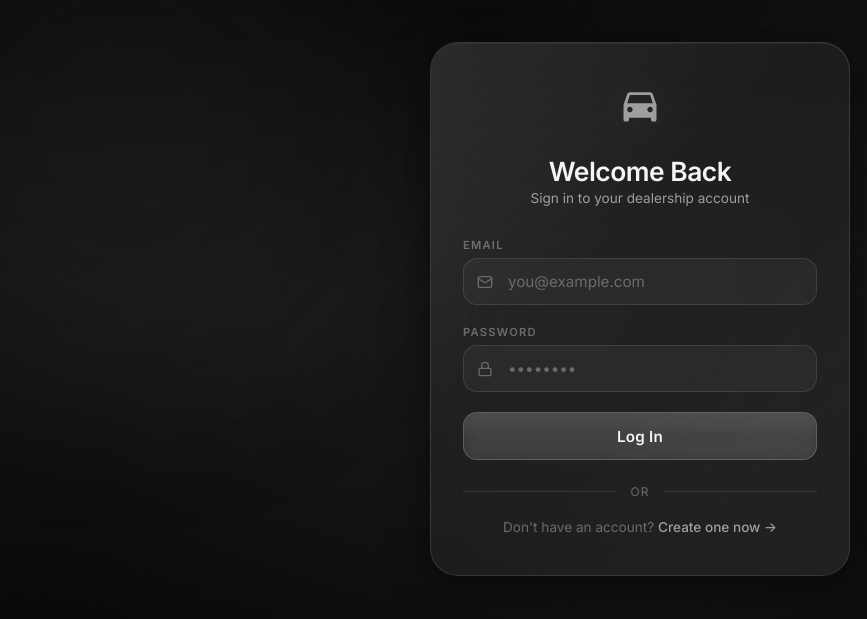
Test: LoginPage › shows an error message on invalid credentials
Step 1. Type "bad@example.com" into the field labelled "Email" → [640, 282], box [463, 258, 817, 305]
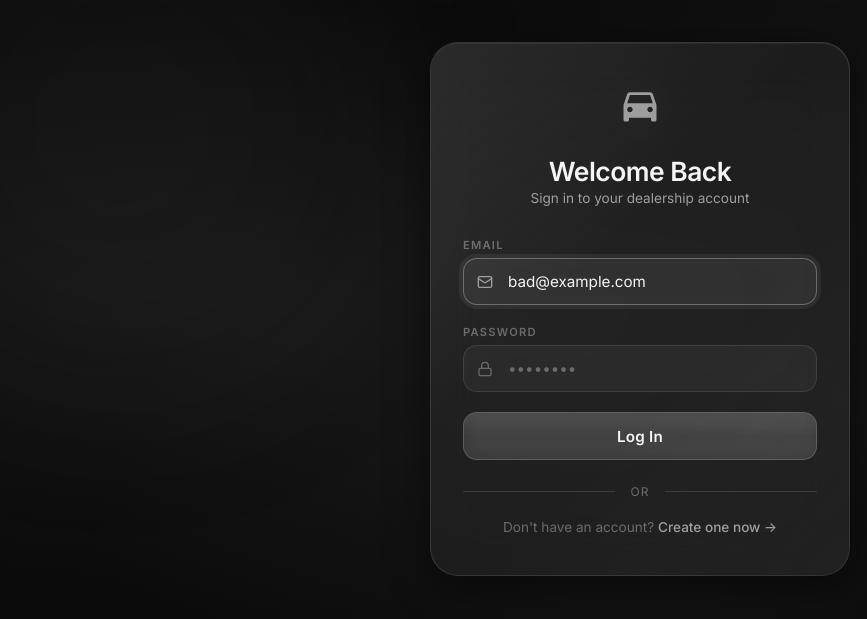
Step 2. Type "wrongpass" into the password field labelled "Password" → [640, 369], box [463, 345, 817, 392]
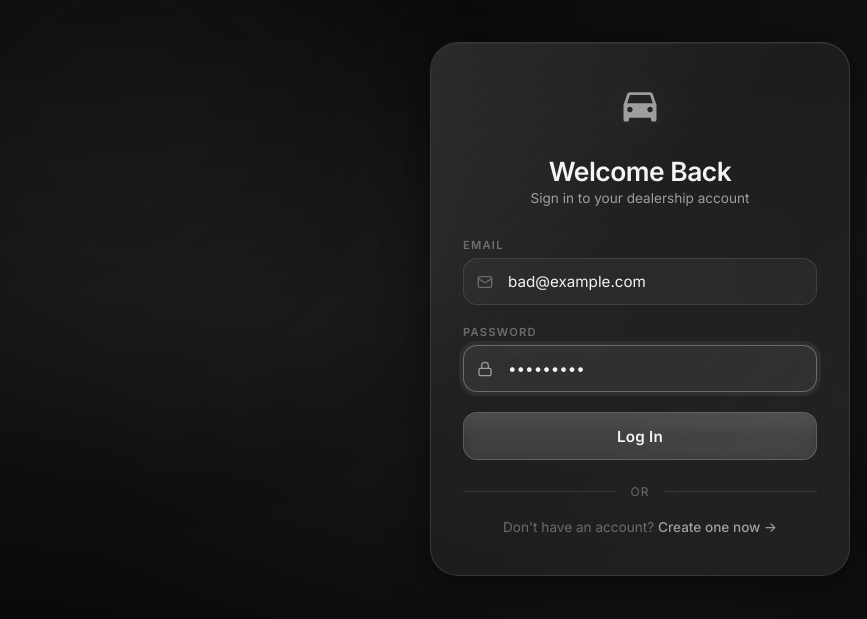
Step 3. Click the button "Log In" → [640, 436], box [463, 412, 817, 460]
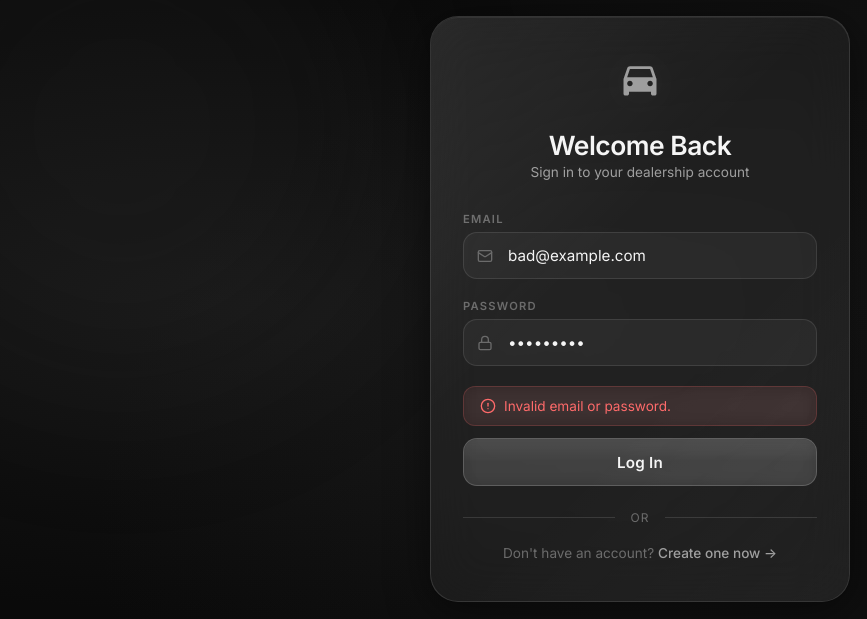
Check: the message "Invalid email or password." is shown, box [463, 386, 817, 426]
Check: the message shows "Invalid email or password", box [504, 398, 671, 414]
